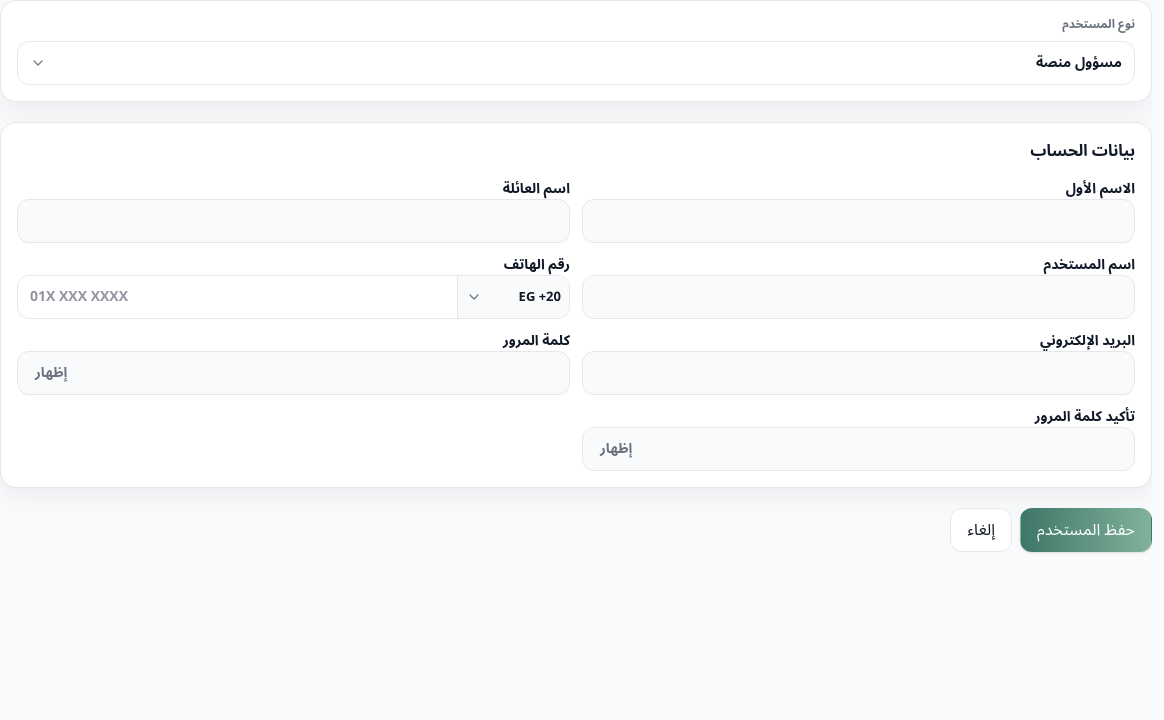
AdminUserFormPage › maps duplicate username field errors to Arabic
Type "منى" into the field labelled "الاسم الأول" at (858, 221), box [582, 199, 1135, 243]
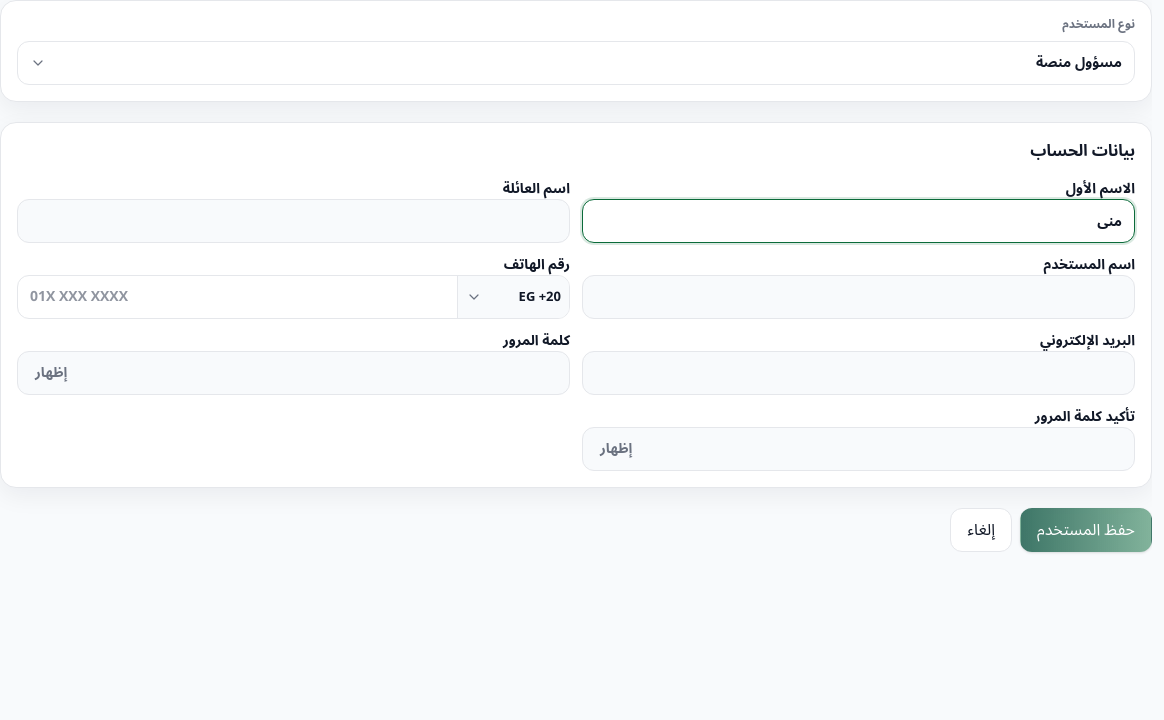
Type "admin" into the field labelled "اسم المستخدم" at (858, 297), box [582, 275, 1135, 319]
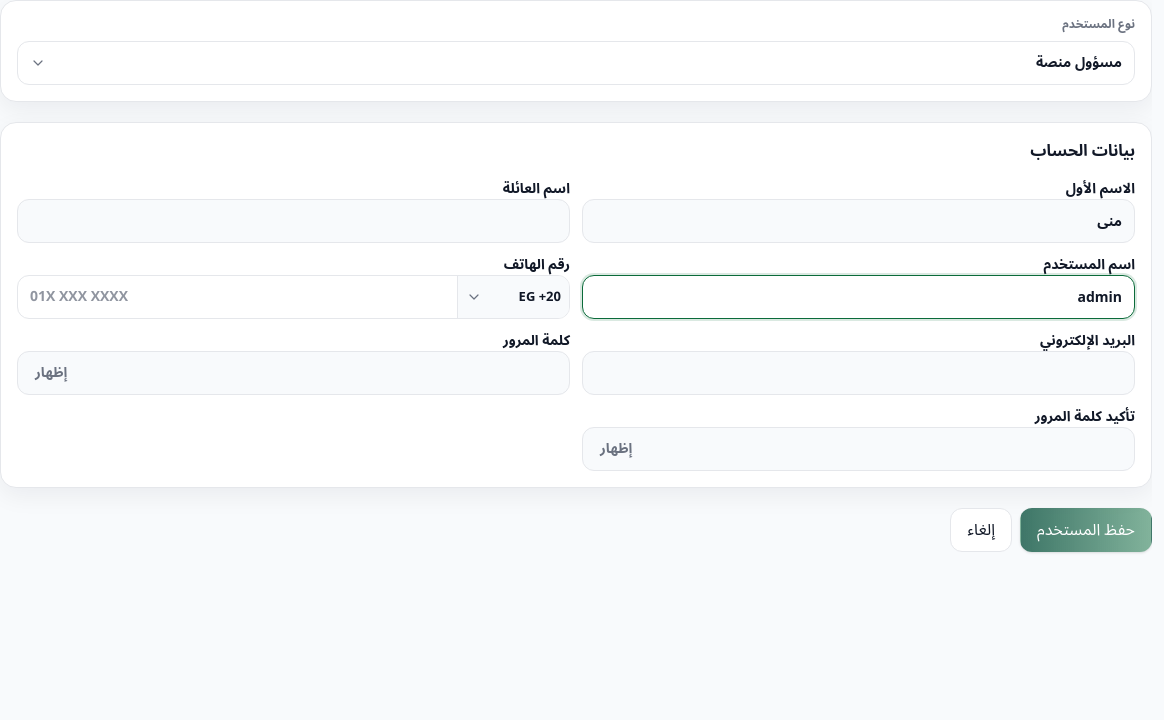
Type "secret123" into the password field labelled "كلمة المرور" at (294, 373), box [17, 351, 570, 395]
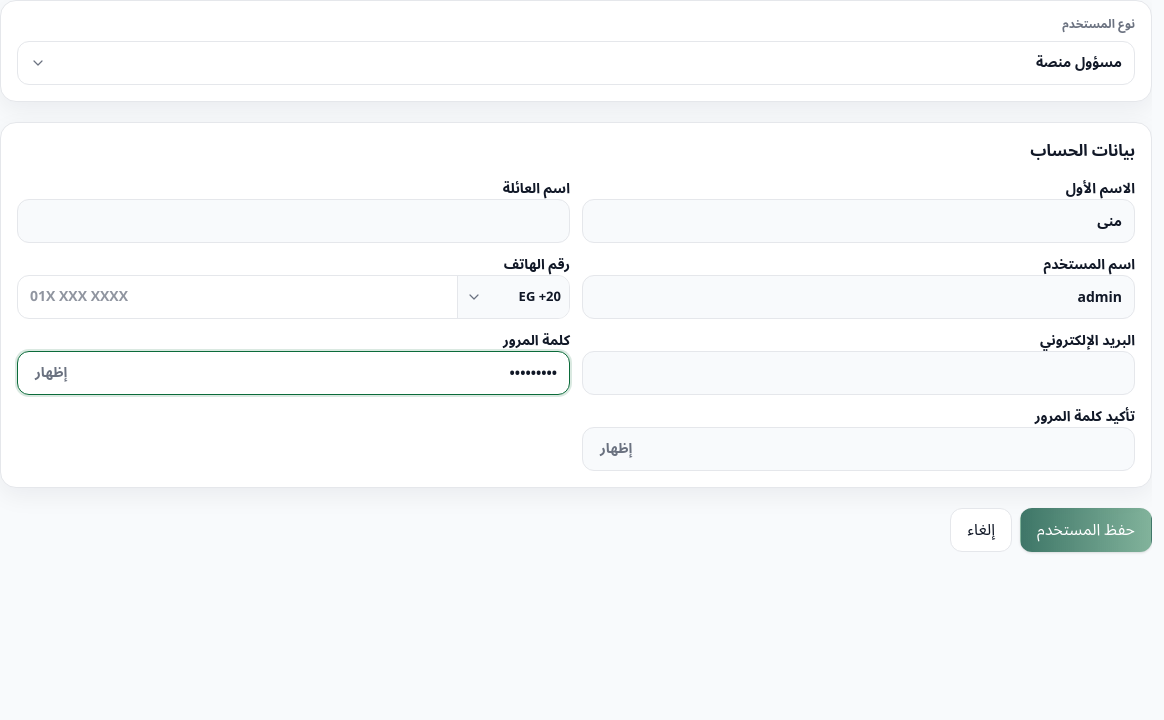
Type "secret123" into the password field labelled "تأكيد كلمة المرور" at (858, 449), box [582, 427, 1135, 471]
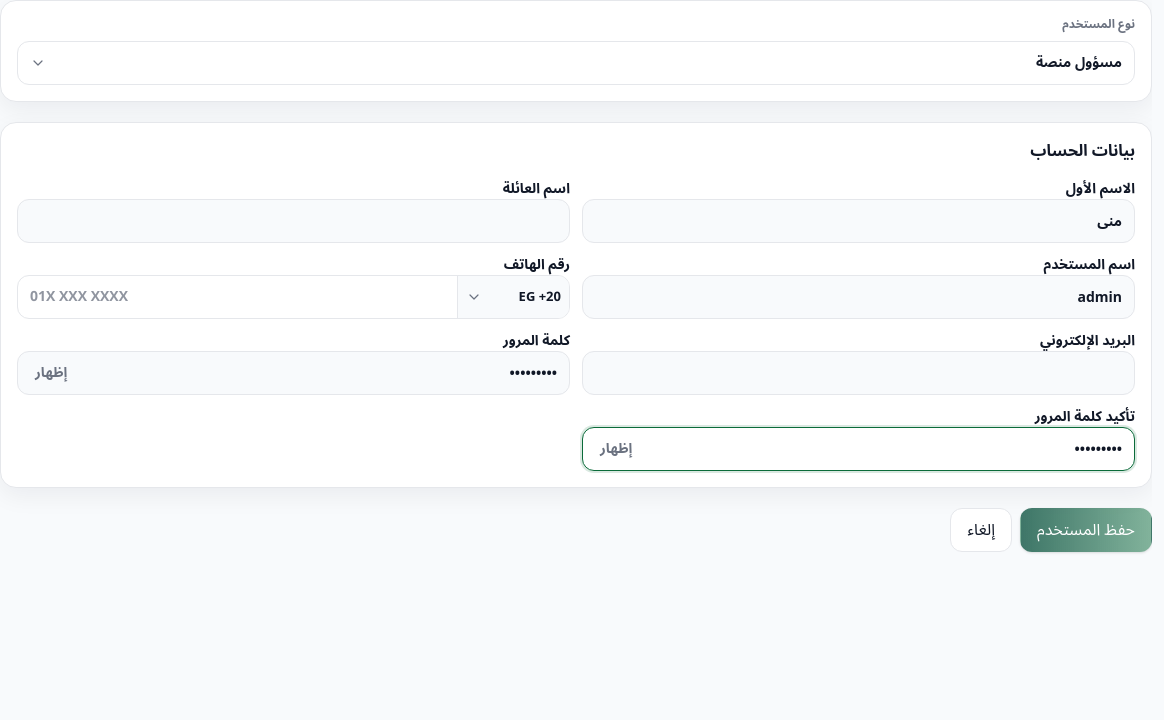
Click the button "حفظ المستخدم" at (1086, 530), box [1020, 508, 1152, 552]
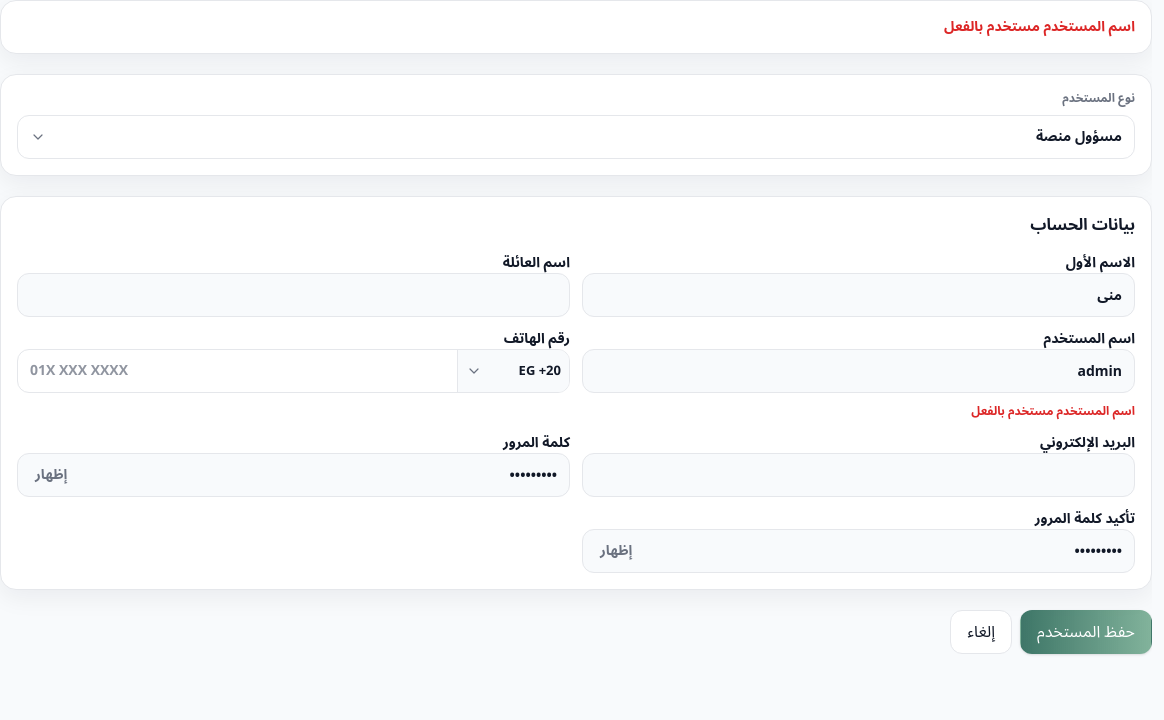
Expected: the text "اسم المستخدم مستخدم بالفعل" is shown 2 times, [944, 12, 1135, 41]; [971, 399, 1135, 424]
